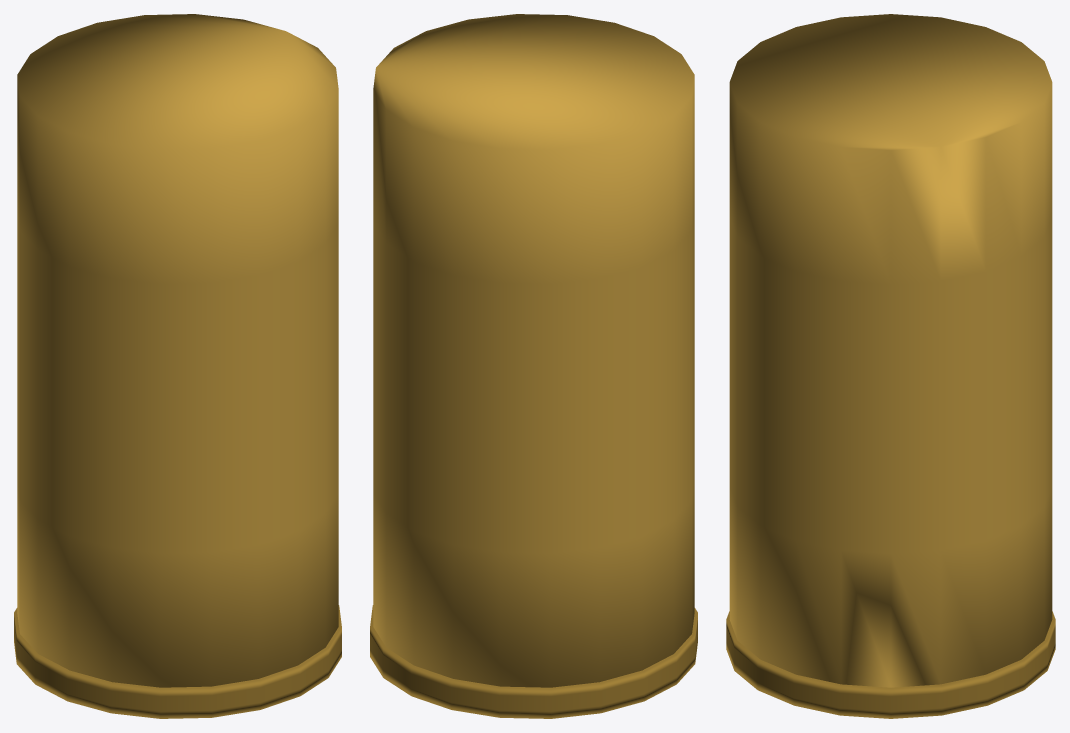
Rendered from capsula_9mm.glb.
The picture shows the model from 3 angles, left to right: view 1: azimuth 30°, elevation 25°; view 2: azimuth 150°, elevation 25°; view 3: azimuth 270°, elevation 25°; orthographic projection.
Visible parts, largest first — view 1: obj_9, obj_8; view 2: obj_9, obj_8; view 3: obj_9, obj_8.
Part boxes in pixels (bbox=[...]): obj_9: bbox=[17, 14, 338, 687]; obj_8: bbox=[14, 605, 341, 718]; obj_9: bbox=[373, 14, 694, 687]; obj_8: bbox=[370, 605, 697, 718]; obj_9: bbox=[729, 14, 1052, 687]; obj_8: bbox=[726, 611, 1055, 718].
Bounding box in the file's own units: 0.01 × 0.019 × 0.01.
